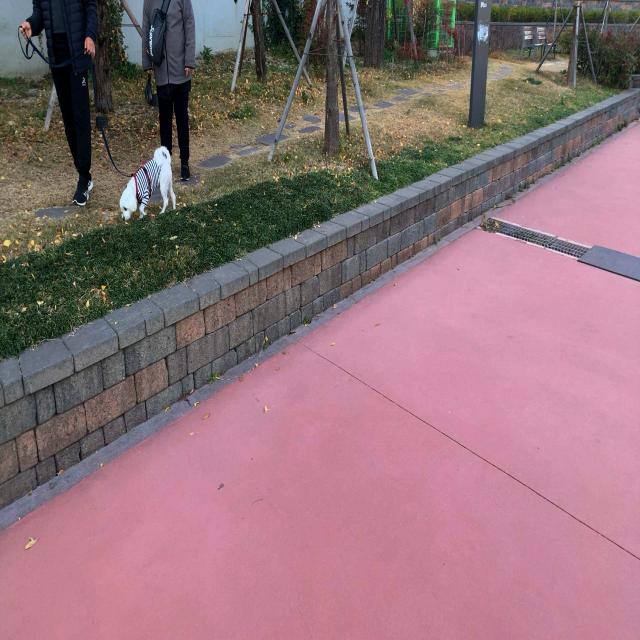Leashed_Dog: (18, 22, 176, 222)
